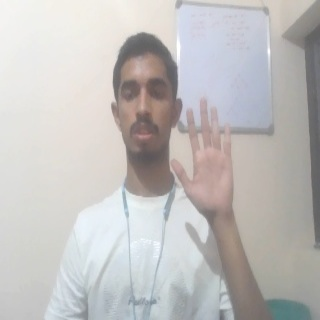Face: (110, 32, 183, 168)
Hello: (170, 95, 240, 223)
